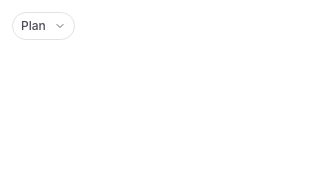
Test case: Select › moves with the arrows, chooses with Enter and returns focus
Click the button with aria-label "Type". click: (43, 26)
box: top-left (12, 12), bottom-right (75, 40)
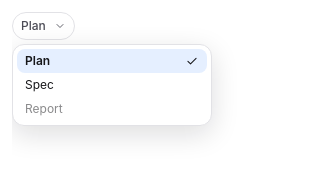
Press Arrowdown Enter
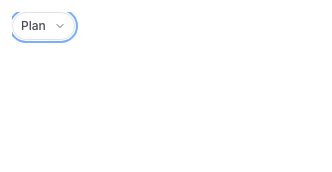
Now the element with class "sel-pop" is gone
